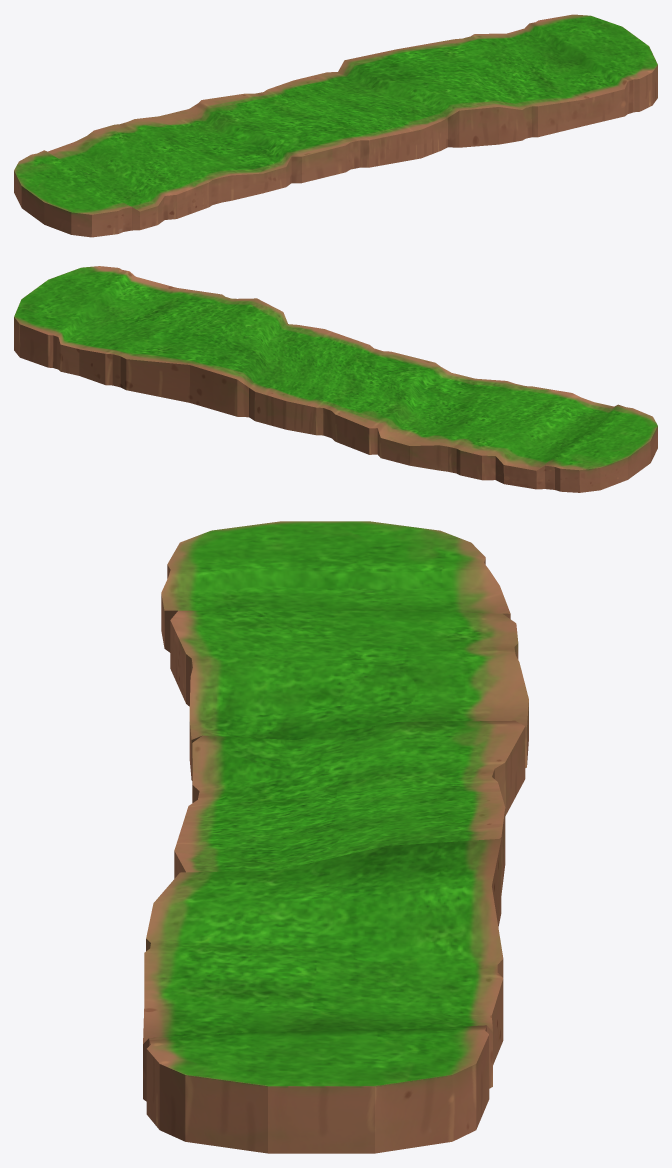
File: ground_04.fbx
3 views of the same model, one above another, from view 1: azimuth 30°, elevation 25°; view 2: azimuth 150°, elevation 25°; view 3: azimuth 270°, elevation 25° (orthographic). The views are drawn at different scales.
Visible parts, largest first — view 1: ground_04; view 2: ground_04; view 3: ground_04.
Part boxes in pixels (left/top/right/bottom): ground_04: left=14, top=14, right=657, bottom=237; ground_04: left=14, top=266, right=657, bottom=492; ground_04: left=143, top=521, right=528, bottom=1153.
Bounding box in the file's own units: 8.97 × 2.49 × 0.5371.
